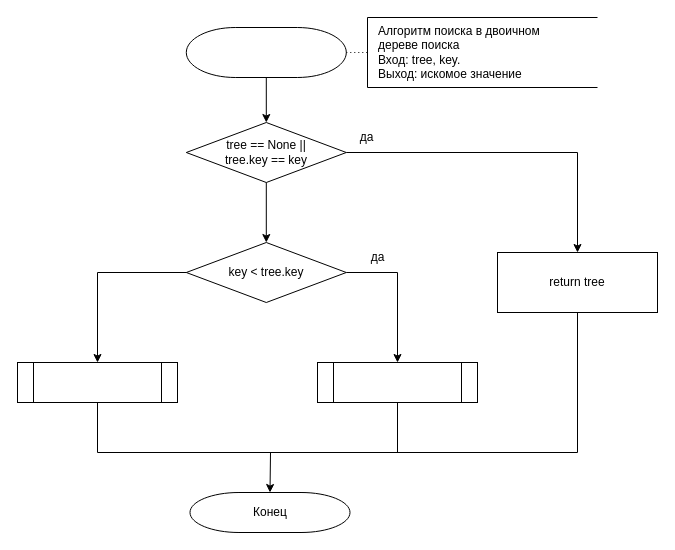
This 675x550 diagram has some shape labels left out. The box of each missing label's shape, as (x1, y1, x2, y2) in pixels:
search(tree.left, key): (316, 362, 478, 402)
search(tree.right, key): (16, 362, 178, 402)
Начало: (185, 26, 346, 78)
